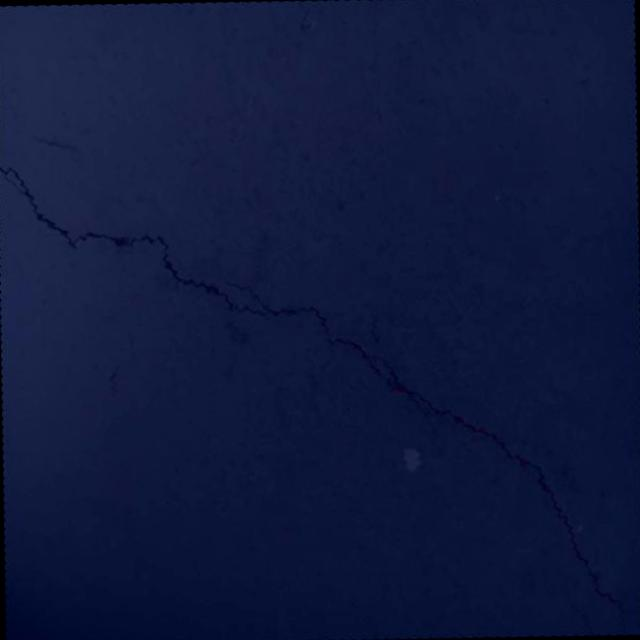crack: (0, 154, 626, 640), (554, 582, 594, 636)
